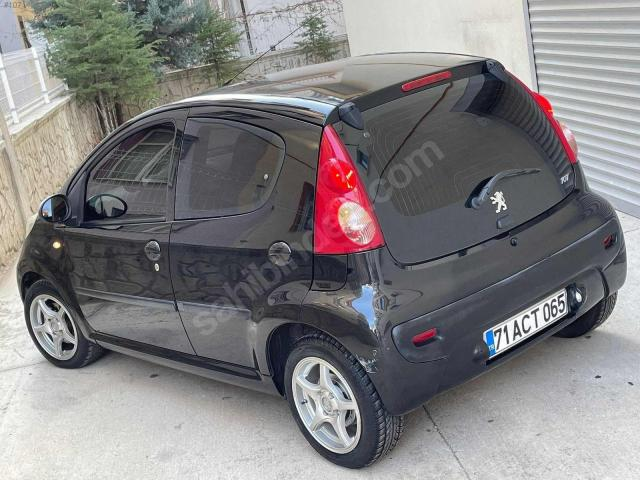plaka: (483, 289, 568, 357)
